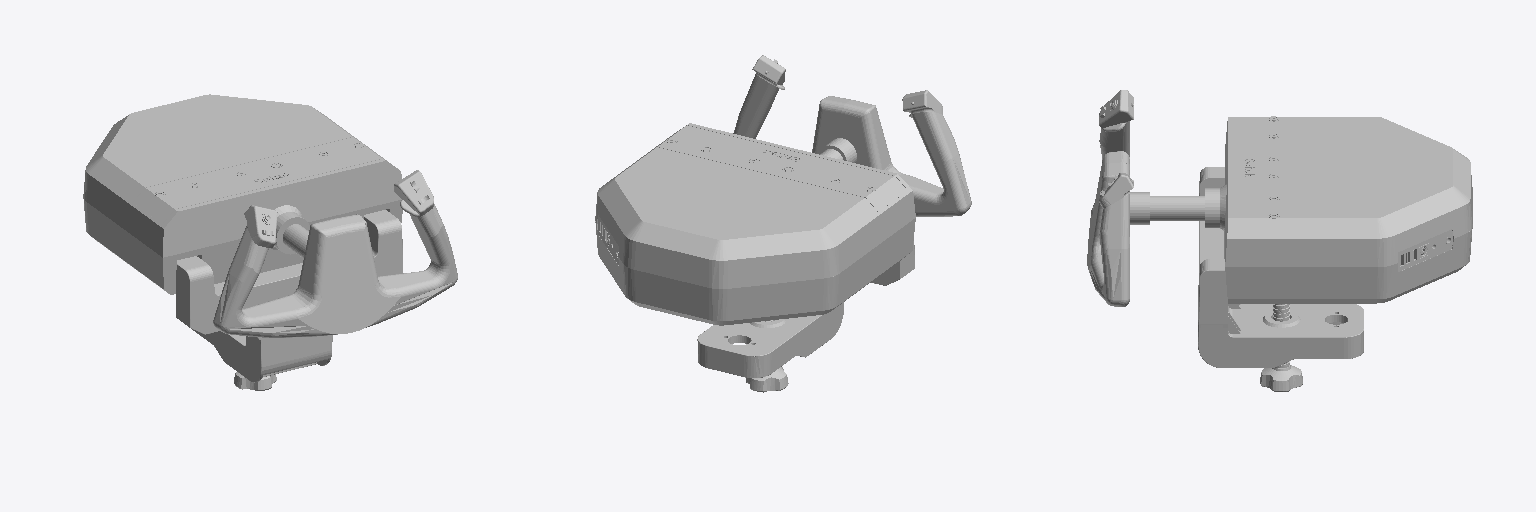
File: Saitek Pro Flight Cessna Yoke System.obj
The picture shows the model from 3 angles: view 1: azimuth 30°, elevation 25°; view 2: azimuth 150°, elevation 25°; view 3: azimuth 270°, elevation 25°; orthographic projection.
Visible parts, largest first — view 1: Saitek Cessna Box-1, Saitek Cessna Yoke, Saitek Cessna - Clip, Saitek Cessna Box, Saitek Cessna Yoke-2; view 2: Saitek Cessna Box-1, Saitek Cessna Yoke, Saitek Cessna - Clip, Saitek Cessna Box, Saitek Cessna yoke - Tornillo; view 3: Saitek Cessna Box-1, Saitek Cessna - Clip, Saitek Cessna Yoke, Saitek Cessna Box, Saitek Cessna Yoke-2, Saitek Cessna yoke - Tornillo.
Part boxes in pixels (left/top/right/bottom): Saitek Cessna Box-1: left=83, top=94, right=402, bottom=294; Saitek Cessna Yoke: left=213, top=170, right=457, bottom=337; Saitek Cessna - Clip: left=176, top=210, right=402, bottom=382; Saitek Cessna Box: left=133, top=137, right=390, bottom=223; Saitek Cessna Yoke-2: left=283, top=224, right=308, bottom=258; Saitek Cessna Box-1: left=595, top=123, right=915, bottom=325; Saitek Cessna Yoke: left=733, top=55, right=971, bottom=216; Saitek Cessna - Clip: left=697, top=241, right=914, bottom=377; Saitek Cessna Box: left=599, top=125, right=906, bottom=245; Saitek Cessna yoke - Tornillo: left=746, top=320, right=788, bottom=392; Saitek Cessna Box-1: left=1205, top=116, right=1472, bottom=303; Saitek Cessna - Clip: left=1198, top=167, right=1363, bottom=367; Saitek Cessna Yoke: left=1087, top=90, right=1149, bottom=306; Saitek Cessna Box: left=1235, top=117, right=1428, bottom=266; Saitek Cessna Yoke-2: left=1150, top=196, right=1204, bottom=220; Saitek Cessna yoke - Tornillo: left=1260, top=304, right=1302, bottom=391.
Size of the model in its own units: 280 by 282 by 388.